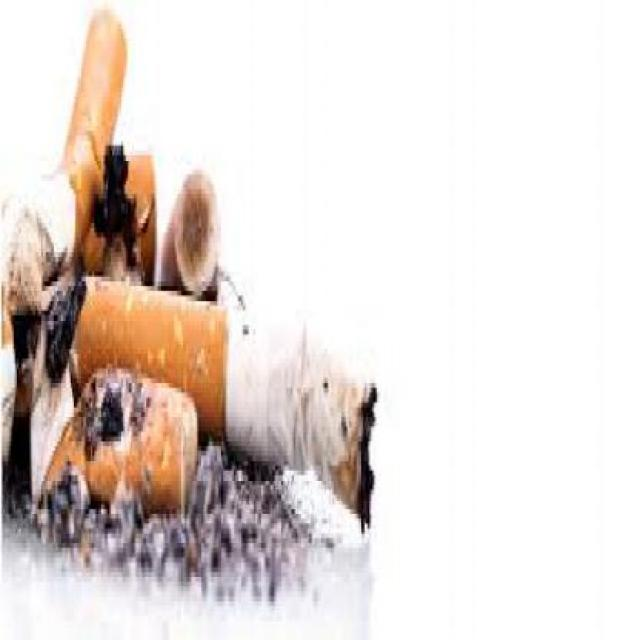cigarette: (65, 262, 400, 543), (51, 379, 204, 543), (164, 131, 276, 320), (12, 49, 108, 238), (105, 132, 153, 306)
